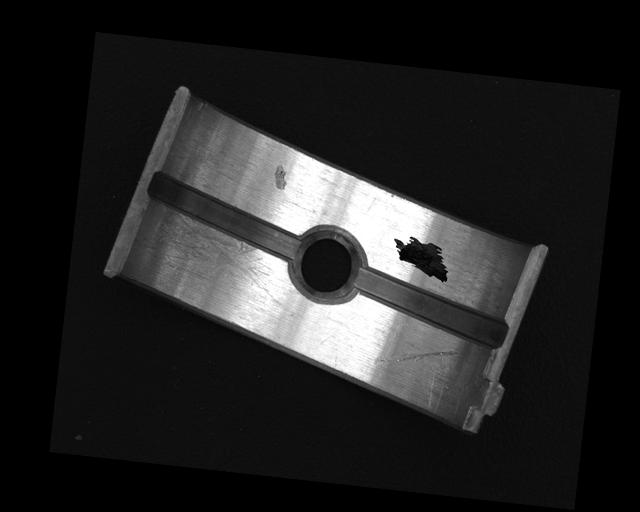blot: (388, 233, 452, 285)
bruise: (272, 163, 289, 190)
gap: (141, 170, 307, 264), (347, 264, 513, 349)
hole: (284, 224, 365, 305)
nick: (373, 341, 459, 374)
scratch: (136, 205, 289, 305)
